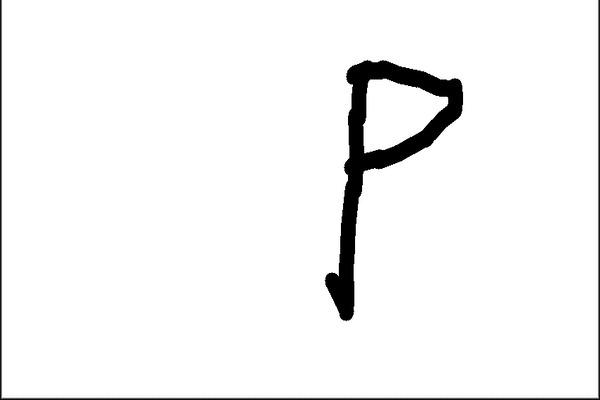P: (314, 46, 474, 330)
